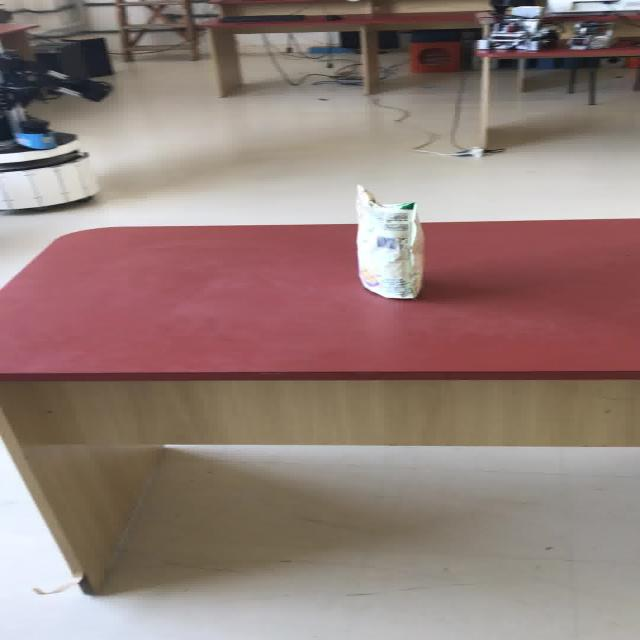corn flakes: (353, 184, 424, 299)
